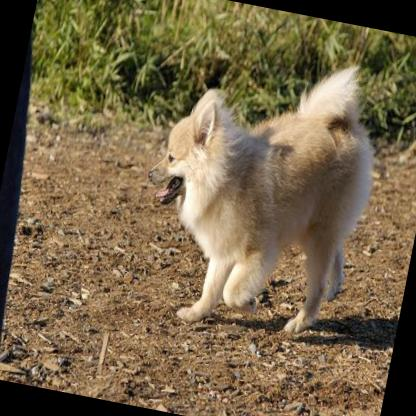Pomeranian: (122, 31, 394, 349)
